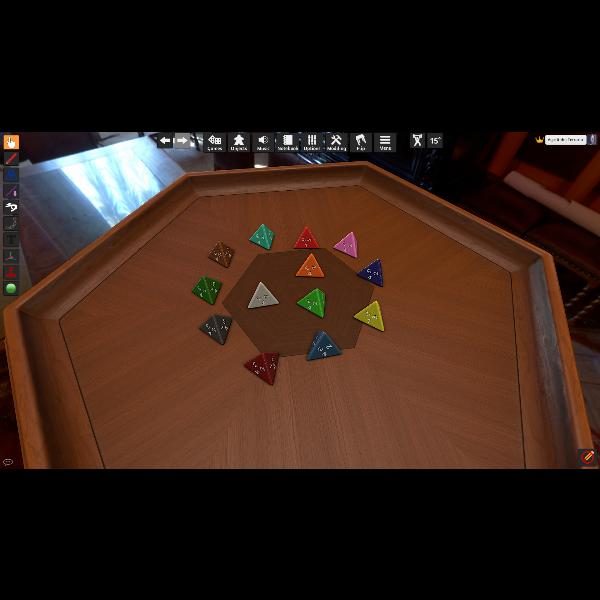d4: (242, 351, 278, 385), (198, 313, 232, 345), (306, 332, 342, 360), (296, 288, 326, 318), (354, 300, 384, 330), (247, 282, 279, 308), (192, 276, 220, 304), (355, 259, 381, 287), (207, 239, 233, 267), (296, 253, 324, 277), (249, 224, 273, 250), (333, 232, 357, 258), (294, 226, 318, 250)
